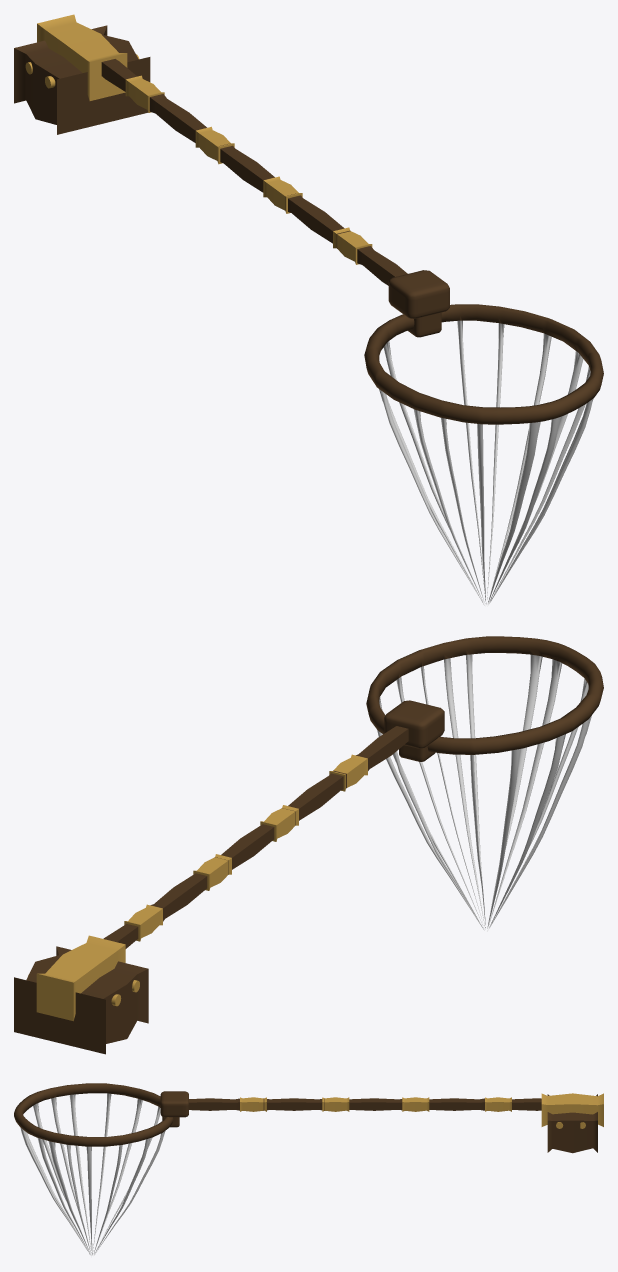
The model's file is net.fbx.
3 renders of one model, top to bottom at view 1: azimuth 30°, elevation 25°; view 2: azimuth 150°, elevation 25°; view 3: azimuth 270°, elevation 25°, orthographic. The views are drawn at different scales.
Parts seen in each view (by area): view 1: polySurface14, polySurface9, polySurface16, polySurface13, polySurface10, polySurface4, polySurface1, polySurface18, polySurface17, polySurface3, polySurface2, polySurface7; view 2: polySurface14, polySurface9, polySurface16, polySurface13, polySurface10, polySurface4, polySurface1, polySurface18, polySurface3, polySurface7, polySurface17, polySurface2; view 3: polySurface14, polySurface9, polySurface16, polySurface13, polySurface10, polySurface4, polySurface1, polySurface18, polySurface17, polySurface3, polySurface2, polySurface7 (+1 smaller).
Part boxes in pixels (x1,y1,x2,y2): polySurface14: [364, 304, 603, 606]; polySurface9: [14, 25, 150, 134]; polySurface16: [37, 14, 127, 100]; polySurface13: [388, 270, 449, 318]; polySurface10: [285, 193, 350, 248]; polySurface4: [149, 94, 206, 142]; polySurface1: [219, 143, 274, 192]; polySurface18: [357, 246, 407, 285]; polySurface17: [195, 126, 234, 164]; polySurface3: [263, 176, 302, 213]; polySurface2: [333, 227, 372, 264]; polySurface7: [125, 75, 164, 112]; polySurface14: [366, 636, 603, 931]; polySurface9: [14, 946, 148, 1054]; polySurface16: [36, 935, 125, 1021]; polySurface13: [384, 700, 444, 748]; polySurface10: [282, 770, 346, 825]; polySurface4: [150, 873, 207, 921]; polySurface1: [215, 824, 274, 874]; polySurface18: [356, 726, 408, 770]; polySurface3: [260, 805, 298, 841]; polySurface7: [124, 904, 162, 941]; polySurface17: [193, 854, 231, 890]; polySurface2: [329, 754, 367, 791]; polySurface14: [14, 1083, 173, 1255]; polySurface9: [547, 1094, 597, 1153]; polySurface16: [541, 1093, 603, 1126]; polySurface13: [160, 1091, 188, 1117]; polySurface10: [263, 1098, 324, 1110]; polySurface4: [429, 1098, 484, 1110]; polySurface1: [349, 1098, 402, 1110]; polySurface18: [189, 1098, 239, 1110]; polySurface17: [402, 1097, 429, 1111]; polySurface3: [322, 1097, 349, 1111]; polySurface2: [240, 1097, 266, 1111]; polySurface7: [485, 1097, 511, 1111].
Size of the model in its own units: 7.76 by 10.2 by 33.74.
